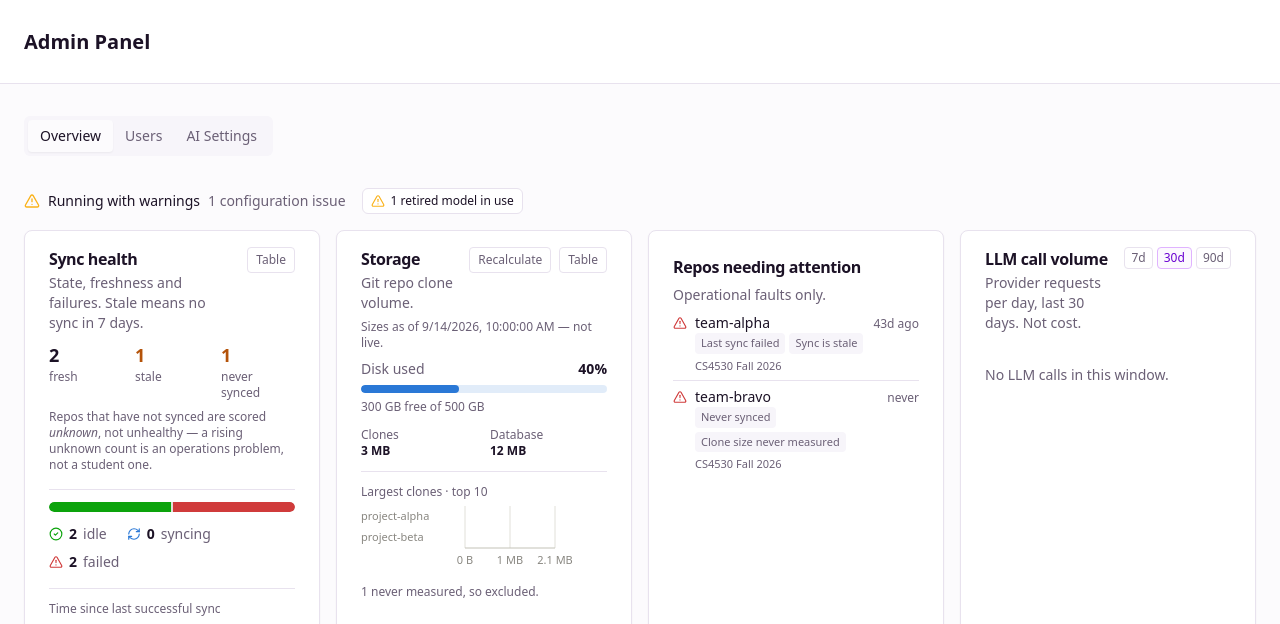
AdminPage › offers no GitHub token field when editing a user
This screenshot has width=1280, height=624.
Click the tab "Users". click: (144, 136)
box: [113, 120, 174, 152]
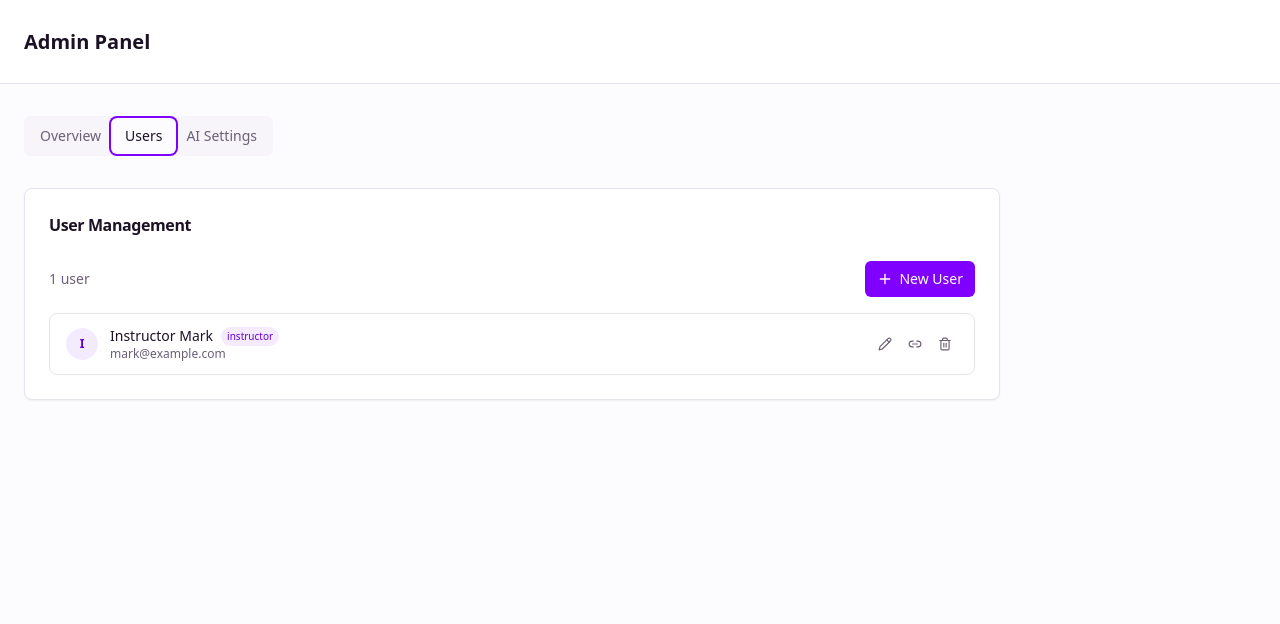
Click the button titled "Edit user". click: (885, 344)
box: [872, 331, 898, 357]
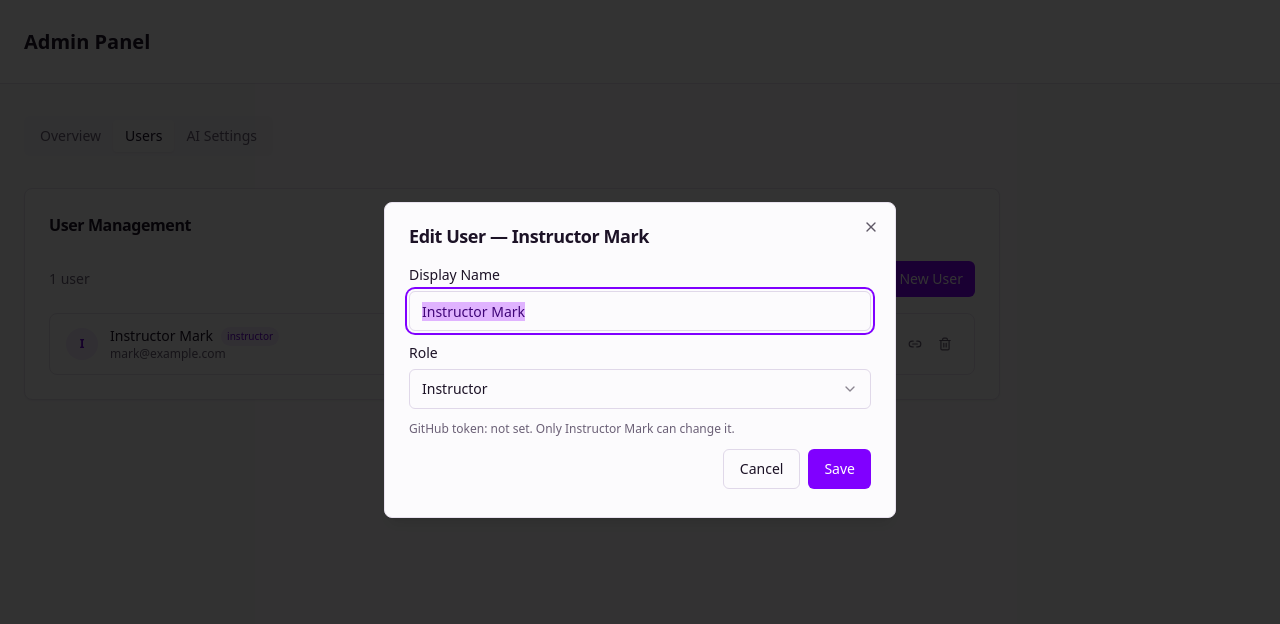
expect the dialog is shown: met, box [384, 202, 896, 518]
